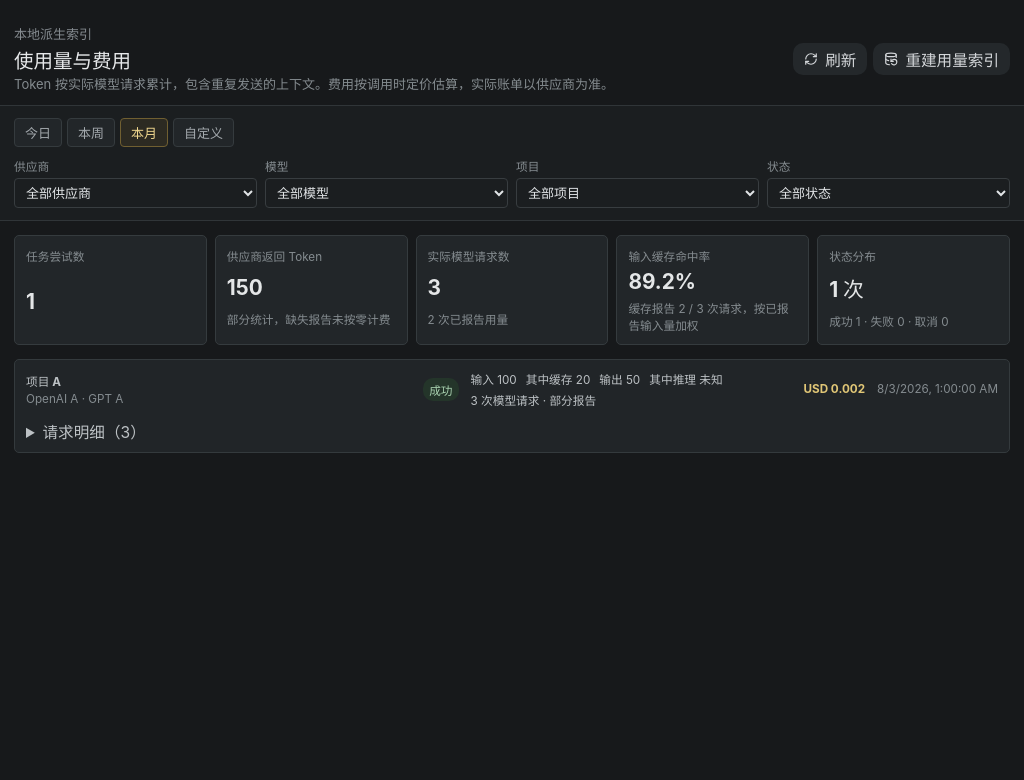
UsageDashboard › uses reported input weights, distinguishes attempts from requests and shows unknown usage
Expected: the text "89.2%" is shown, [628,269,696,294]
Expected: the text "任务尝试数" is shown, [26,250,84,264]
Click the heading "请求明细（3）" at (94, 432), box [42,423,146,442]
(page scrolled)
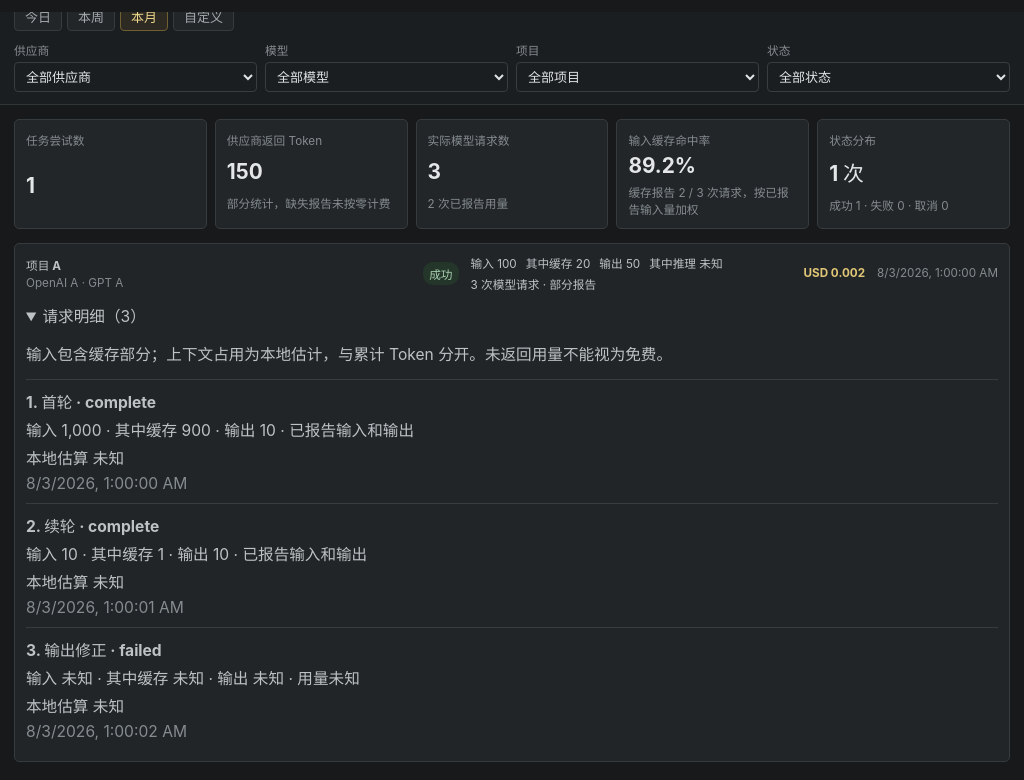
Now the text "3. 输出修正 · failed" is shown, box [26,641,162,660]
Now the text "输入 未知 · 其中缓存 未知 · 输出 未知 · 用量未知" is shown, box [26,669,360,688]
